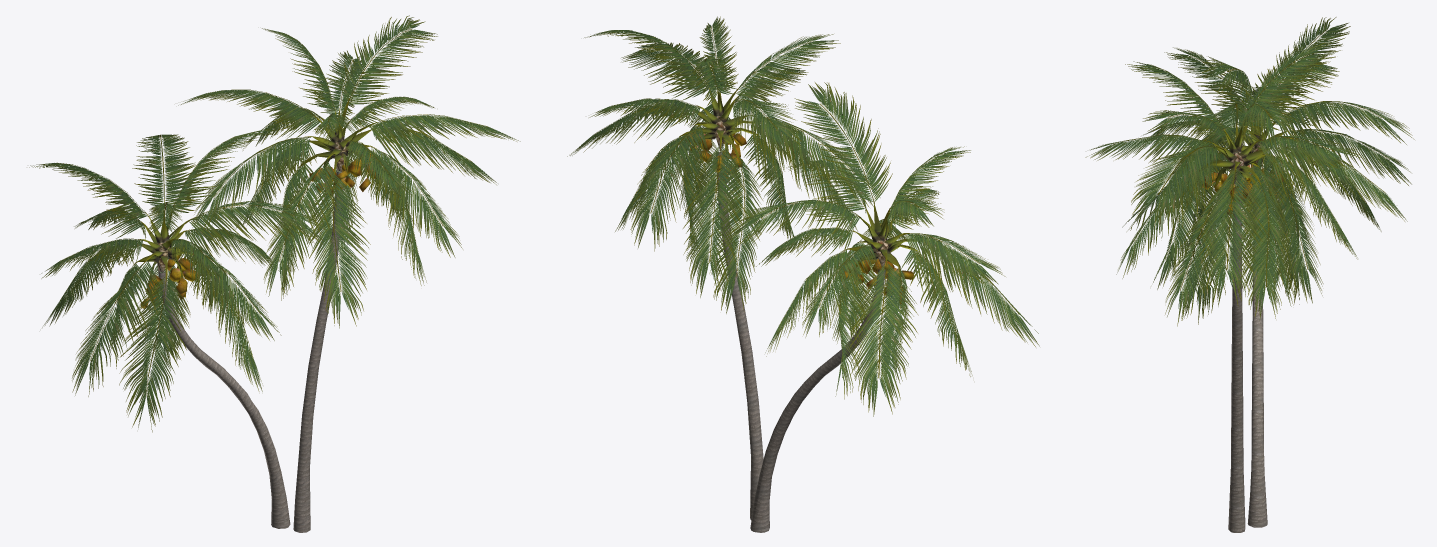
Rendered from palm.glb.
The picture shows the model from 3 angles, left to right: view 1: azimuth 30°, elevation 25°; view 2: azimuth 150°, elevation 25°; view 3: azimuth 270°, elevation 25°; orthographic projection. The views are drawn at different scales.
Parts seen in each view (by area): view 1: Tree_2, Tree_0, Tree_3, Tree_4; view 2: Tree_2, Tree_0, Tree_3, Tree_4; view 3: Tree_2, Tree_0, Tree_3, Tree_4.
Boxes of the visible parts, x1,y1,x2,y2 form: Tree_2: (29,15,520,432); Tree_0: (158,170,343,532); Tree_3: (129,97,380,297); Tree_4: (140,154,375,308); Tree_2: (567,16,1039,416); Tree_0: (716,152,885,532); Tree_3: (679,82,921,285); Tree_4: (685,127,913,304); Tree_2: (1085,17,1414,326); Tree_0: (1228,173,1267,532); Tree_3: (1203,112,1292,202); Tree_4: (1202,164,1283,214).
Bounding box in the file's own units: 6.3 × 6.28 × 4.02.
5 materials, 5 textured.
